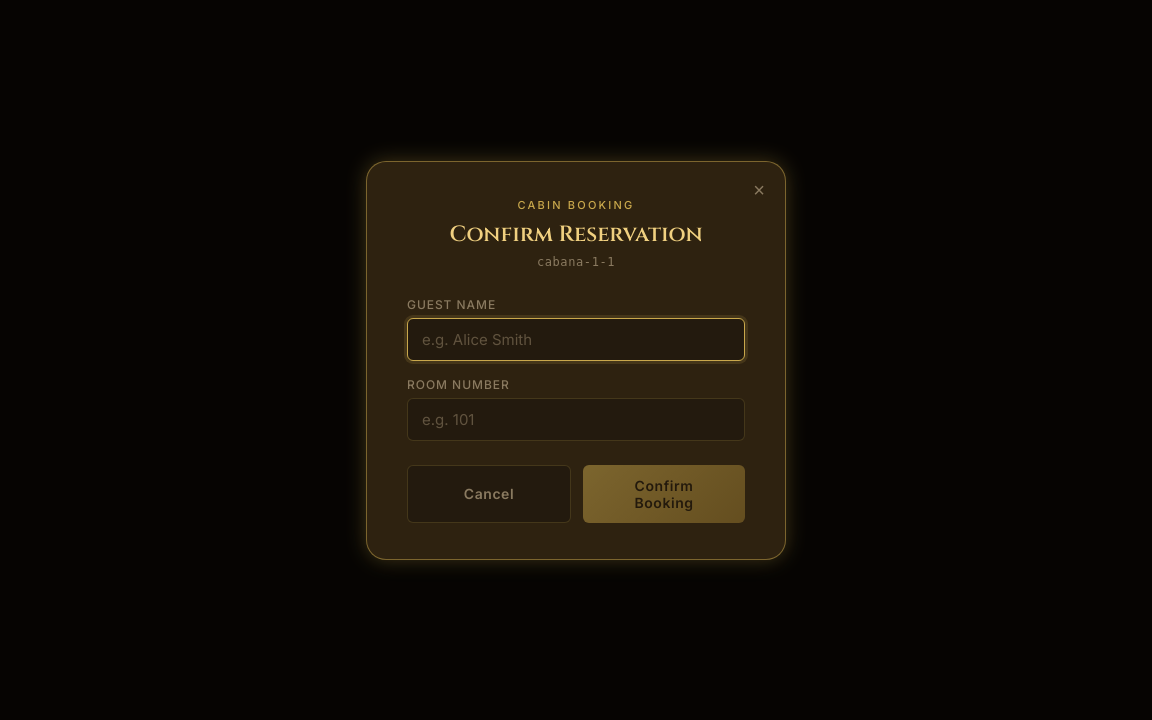
Test: BookingModal › shows a network error when fetch throws
Step 1. Type "Alice Smith" into the field labelled "Guest Name" → (576,339), box left=407, top=318, right=745, bottom=360
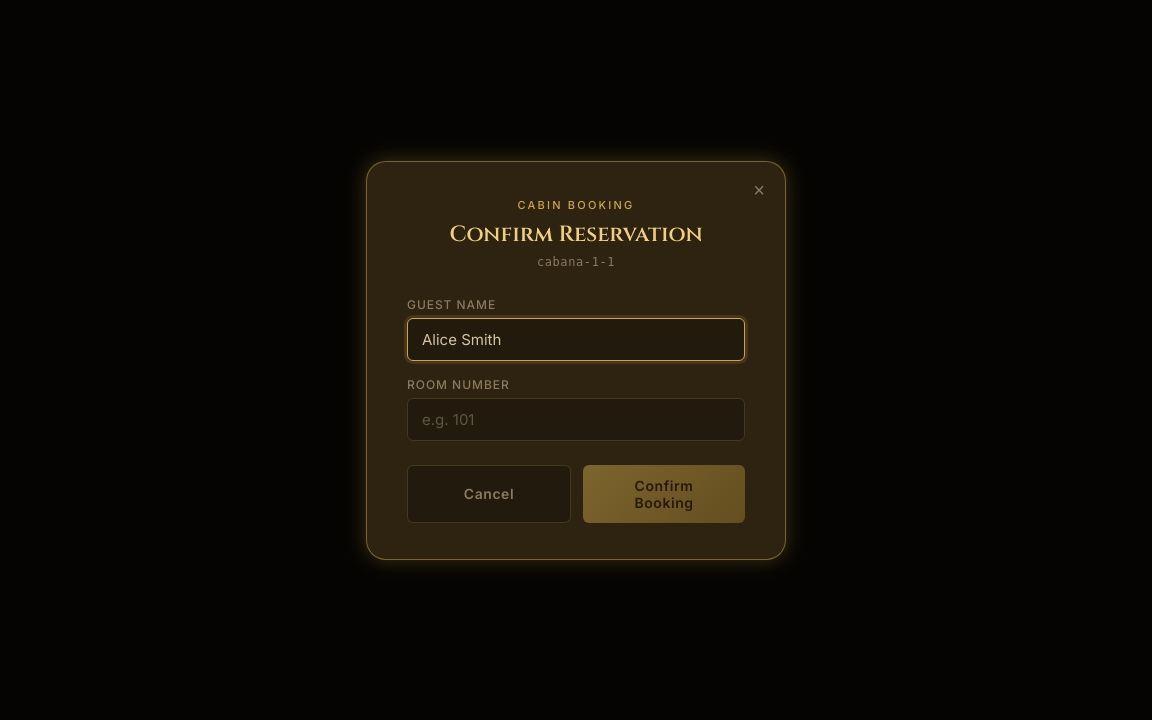
Step 2. Type "101" into the field labelled "Room Number" → (576,419), box left=407, top=398, right=745, bottom=440
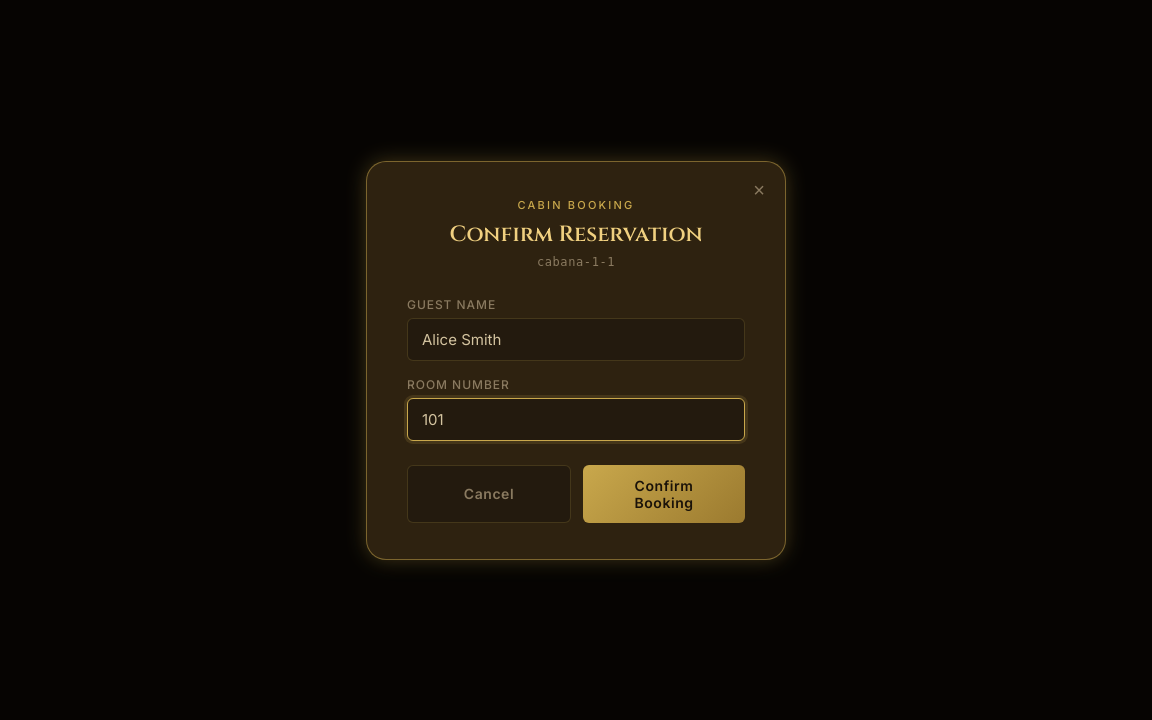
Step 3. Click the button "Confirm Booking" → (664,494), box left=583, top=464, right=745, bottom=522
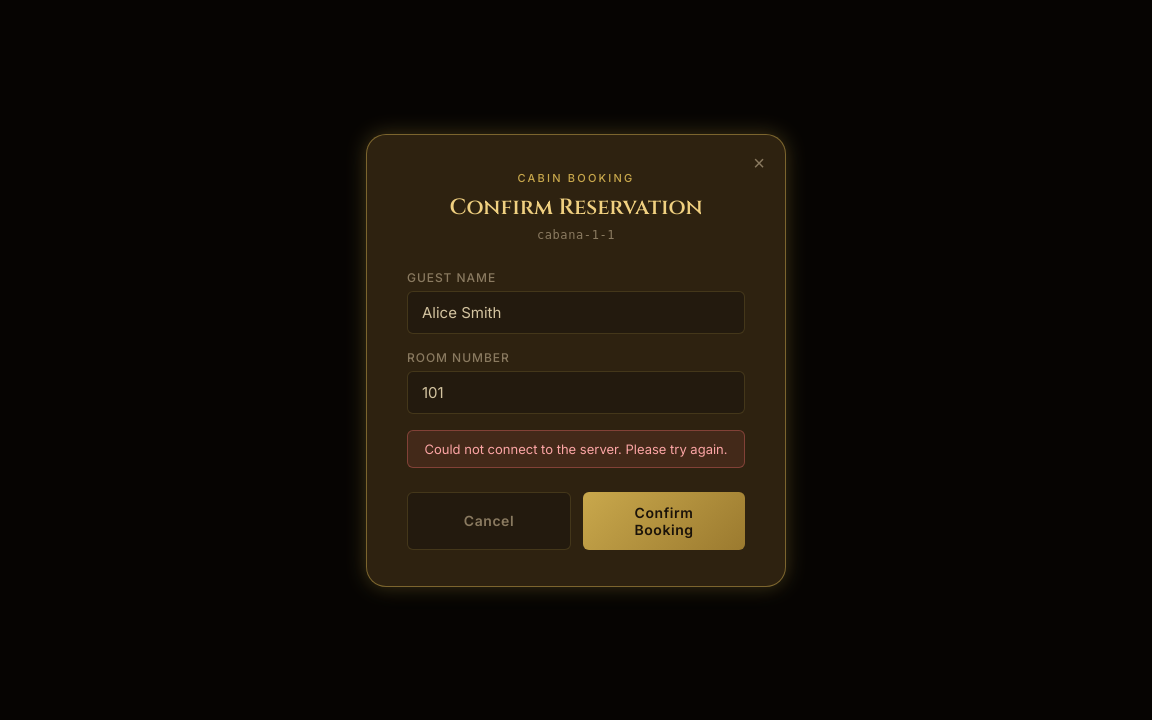
Check: the text "Could not connect to the server. Please try again." is shown, box left=407, top=430, right=745, bottom=468
